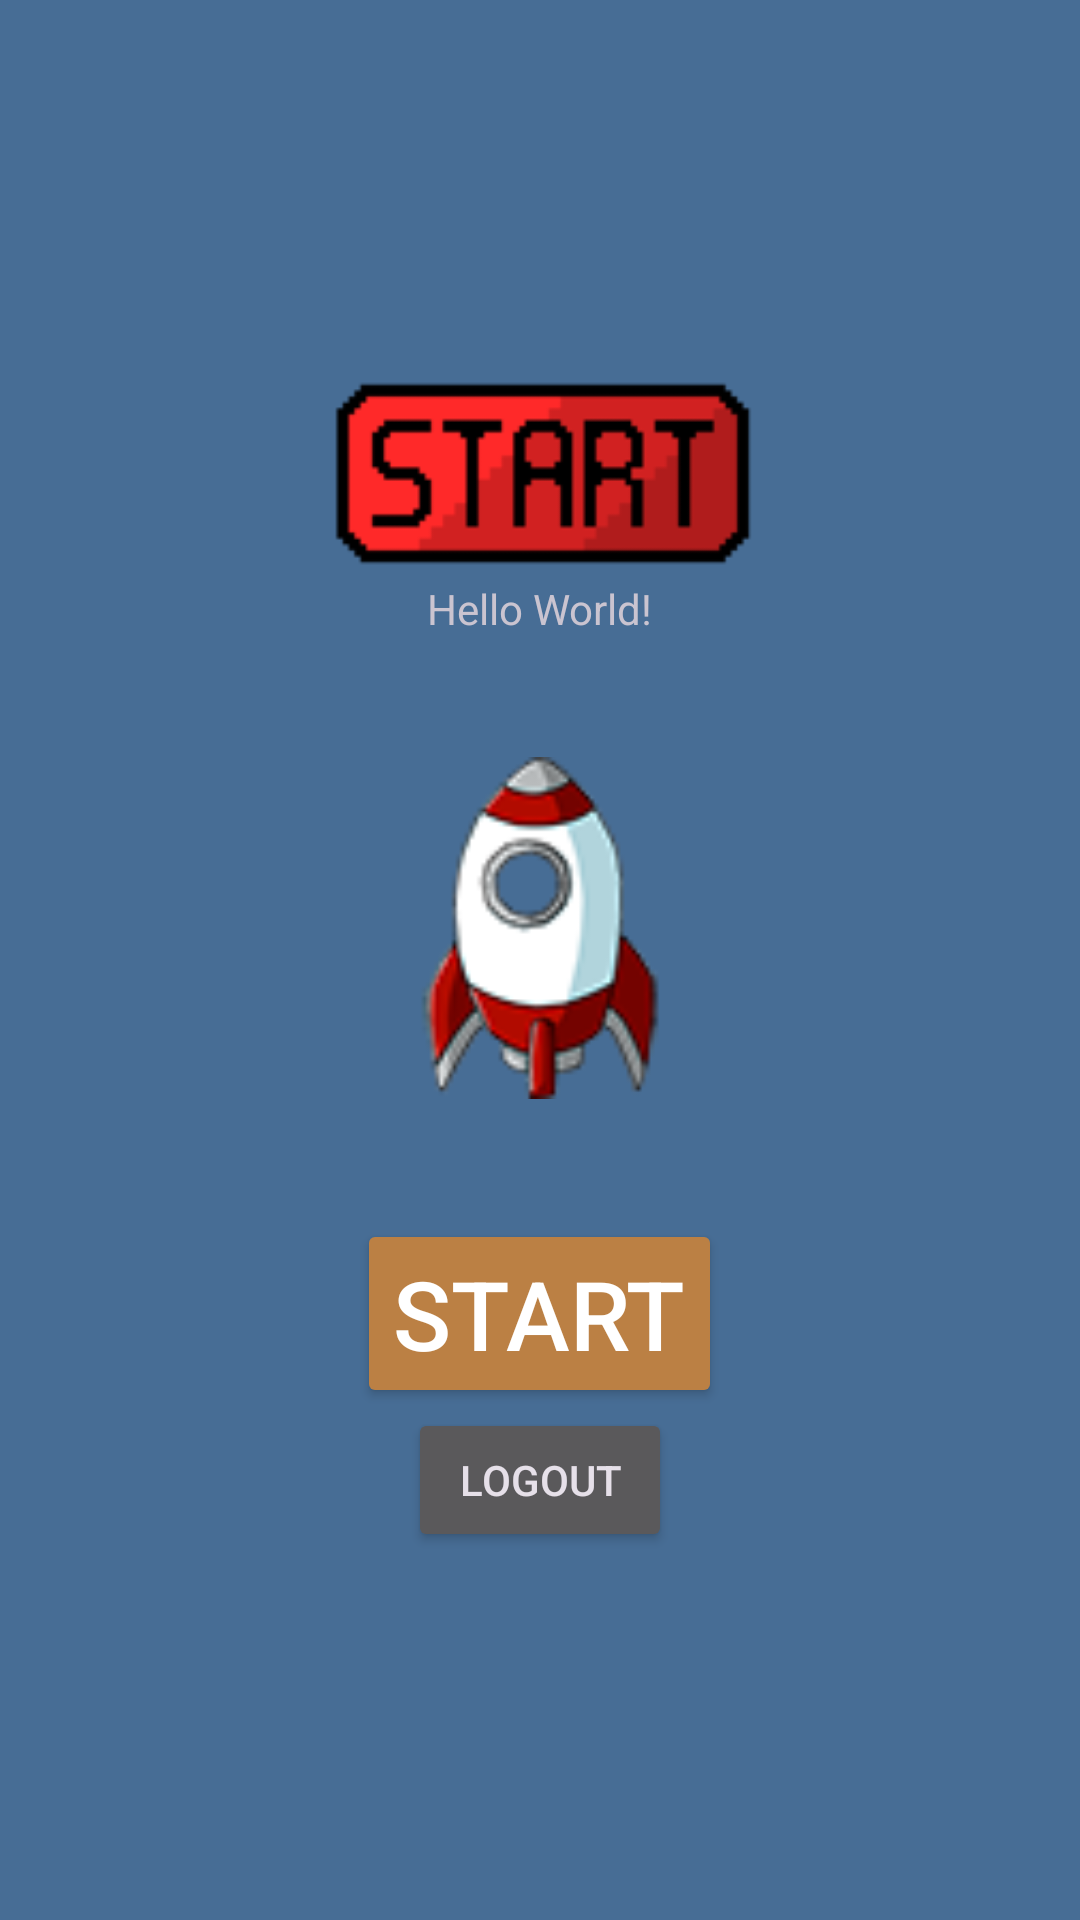

Screen size 1080*1920. Icon name, then its center in pixels as [x,y]:
rocket: [541,928]
